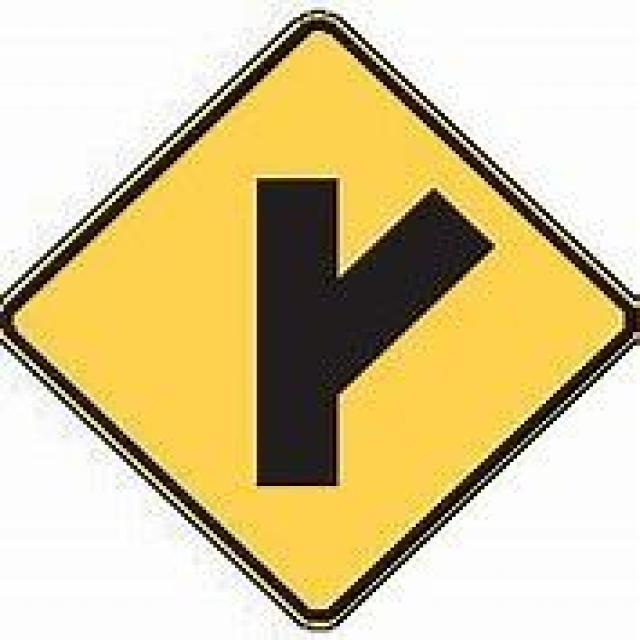Y_INTERSECTION: (0, 3, 636, 622)
